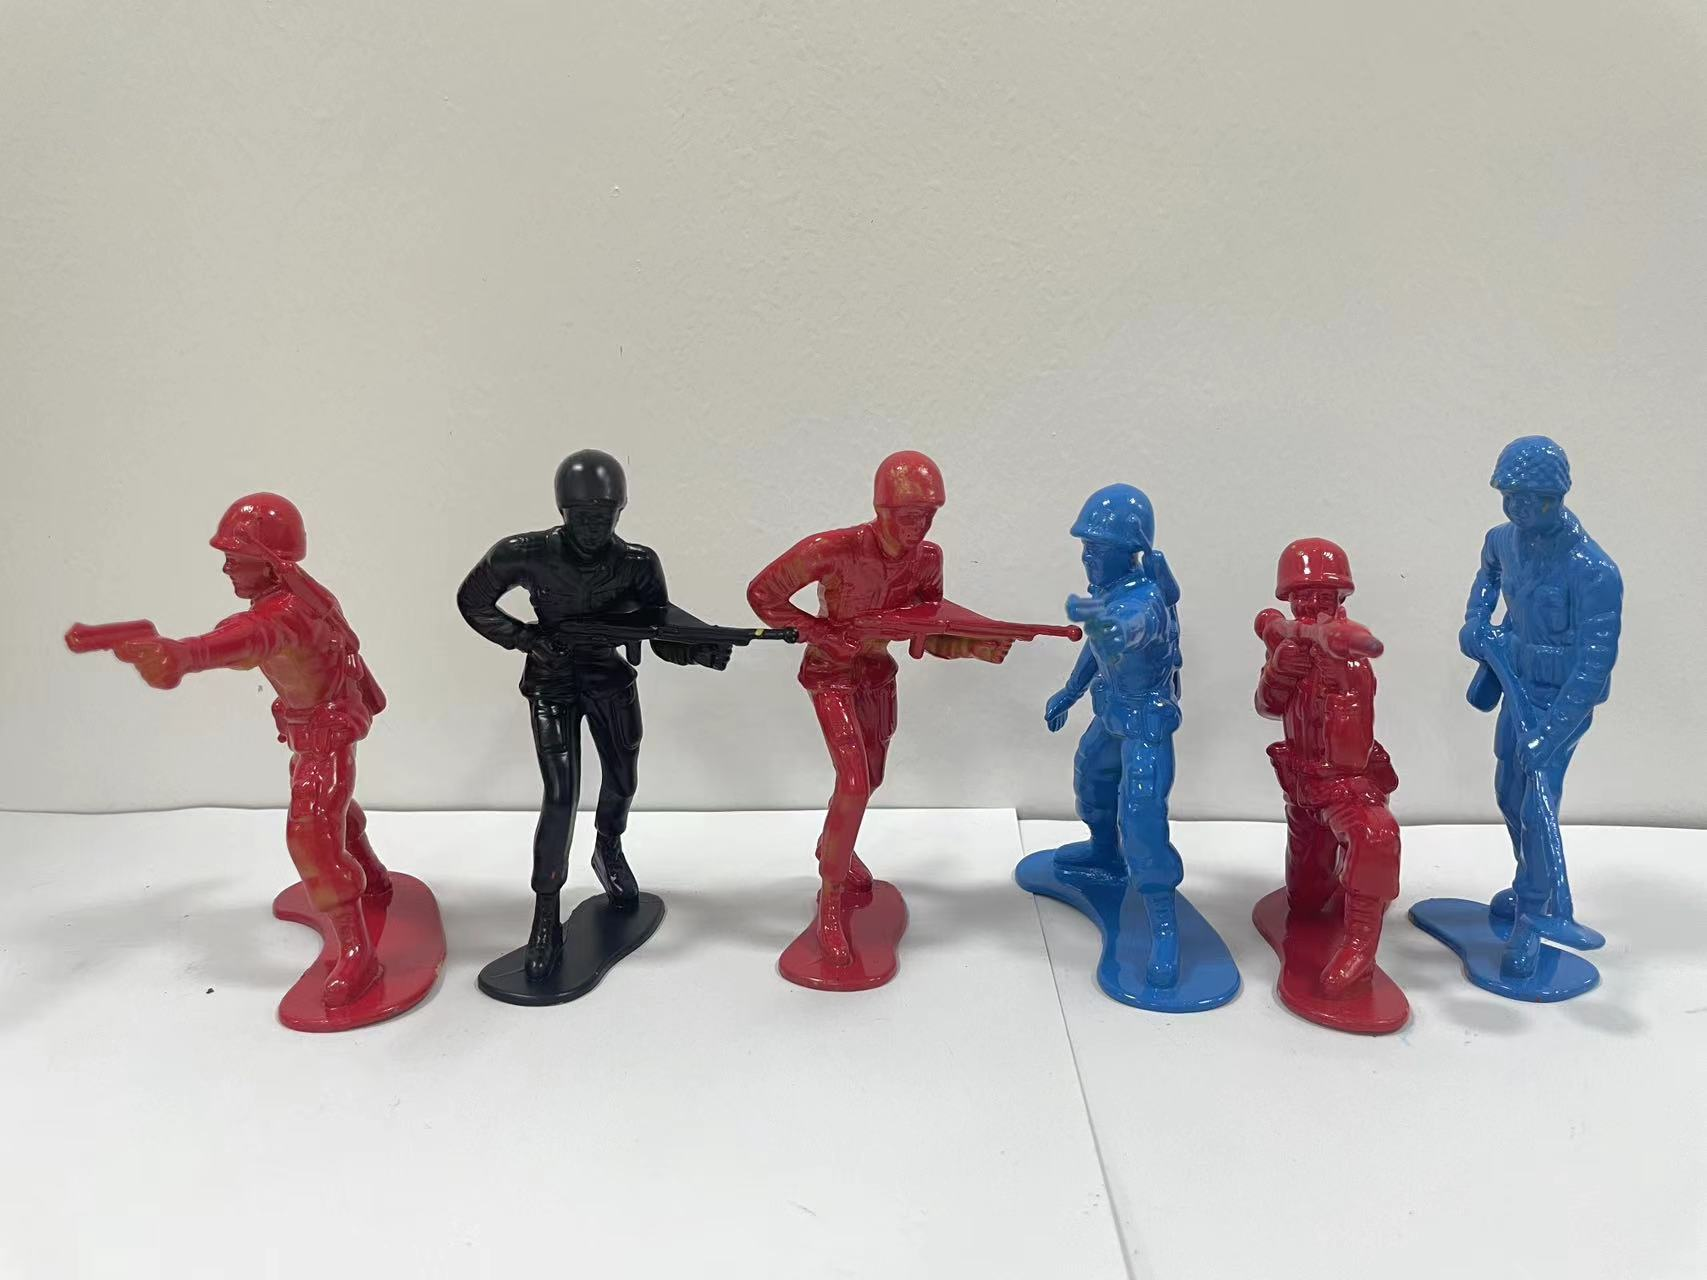black: (433, 372, 742, 1086)
blue: (1410, 401, 1698, 1080), (1026, 407, 1251, 1059)
red: (55, 475, 457, 1111), (745, 411, 1026, 1074), (1224, 499, 1422, 1101)
